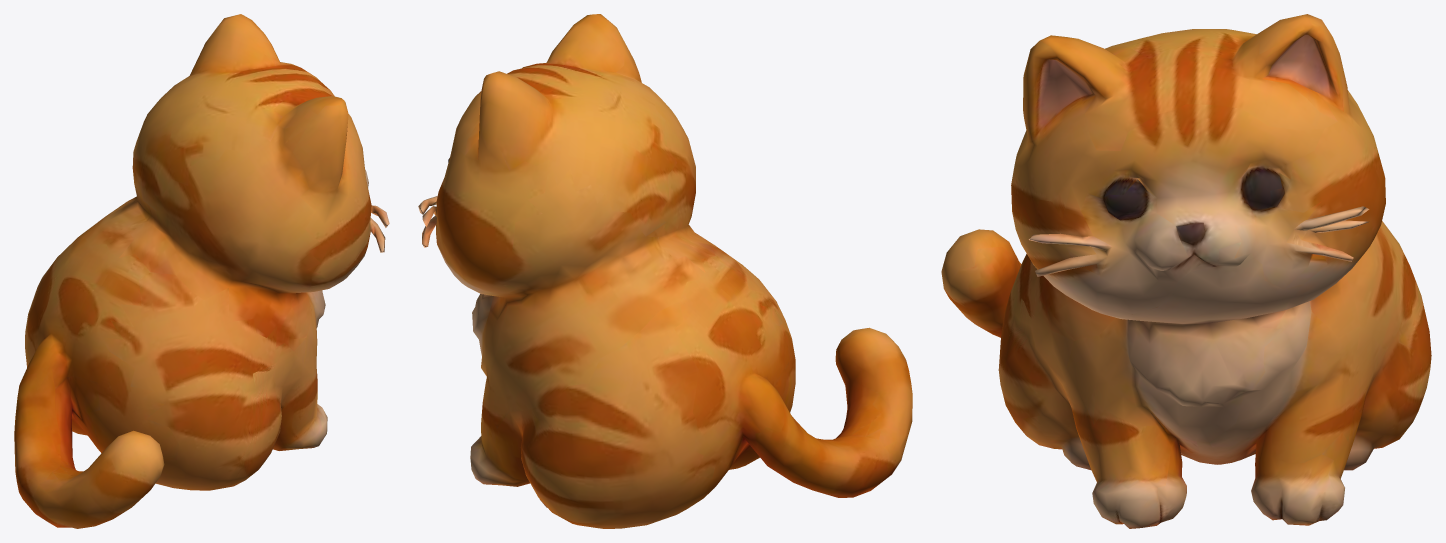
File: cat.glb
3 renders of one model, left to right at view 1: azimuth 30°, elevation 25°; view 2: azimuth 150°, elevation 25°; view 3: azimuth 270°, elevation 25°, orthographic. The views are drawn at different scales.
Parts seen in each view (by area): view 1: tripo_node_cb1dd29a-1261-4df6-af23-31aa50537282; view 2: tripo_node_cb1dd29a-1261-4df6-af23-31aa50537282; view 3: tripo_node_cb1dd29a-1261-4df6-af23-31aa50537282.
Boxes of the visible parts, bbox=[...] form: tripo_node_cb1dd29a-1261-4df6-af23-31aa50537282: bbox=[14, 14, 389, 528]; tripo_node_cb1dd29a-1261-4df6-af23-31aa50537282: bbox=[418, 14, 912, 528]; tripo_node_cb1dd29a-1261-4df6-af23-31aa50537282: bbox=[941, 14, 1431, 528].
Bounding box in the file's own units: 1 × 0.9987 × 0.8783.
Materials: 1 (1 with a texture image).
